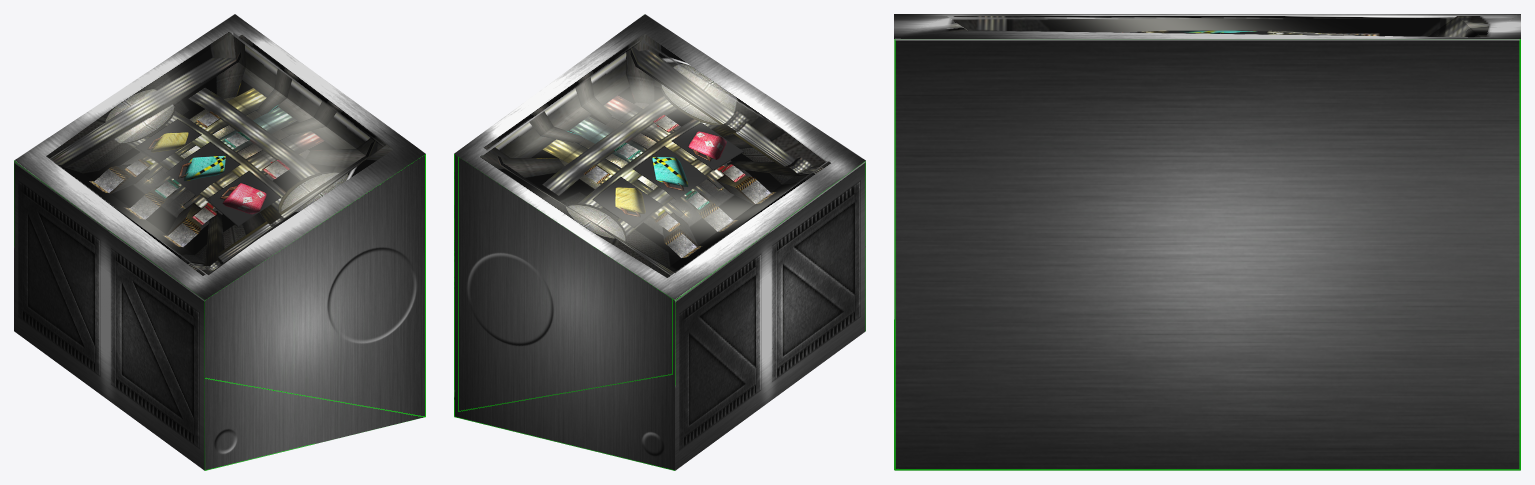
Rendered from Monitor.FBX.
3 renders of one model, left to right at view 1: azimuth 30°, elevation 25°; view 2: azimuth 150°, elevation 25°; view 3: azimuth 270°, elevation 25°, orthographic. The views are drawn at different scales.
Parts seen in each view (by area): view 1: Box006; view 2: Box006; view 3: Box006.
Boxes of the visible parts, bbox=[...] form: Box006: bbox=[14, 14, 425, 470]; Box006: bbox=[454, 14, 865, 470]; Box006: bbox=[894, 14, 1520, 470].
Size of the model in its own units: 30.38 by 45.47 by 34.59.
